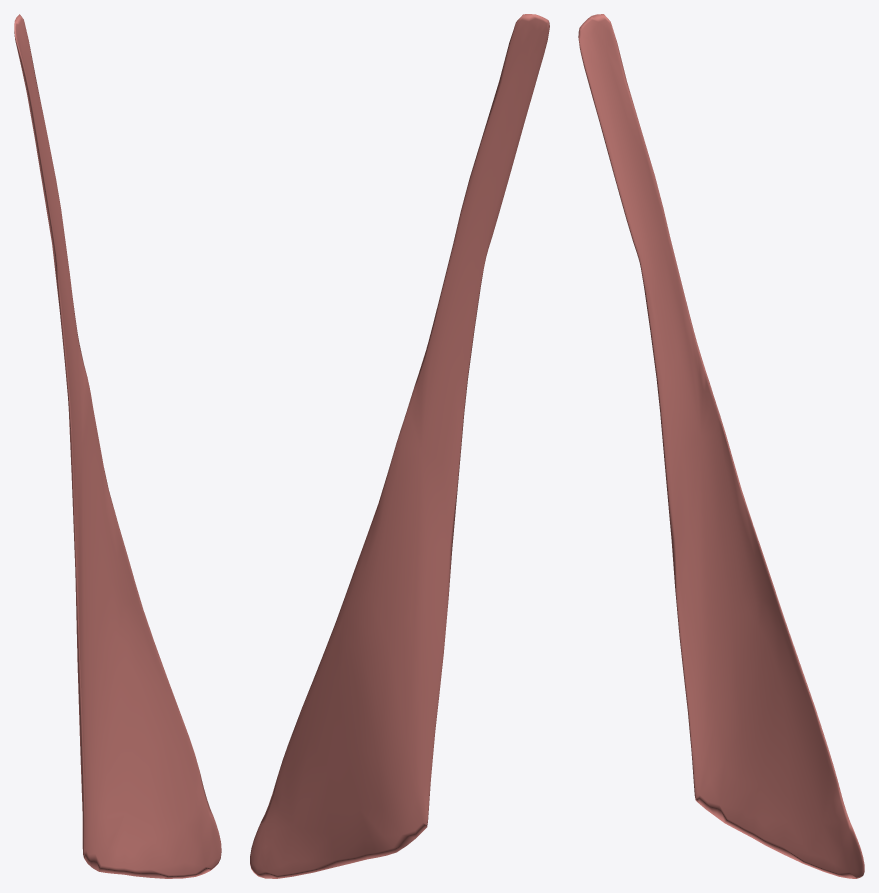
3 views of the same model, side by side, from view 1: azimuth 30°, elevation 25°; view 2: azimuth 150°, elevation 25°; view 3: azimuth 330°, elevation 25° (orthographic). The views are drawn at different scales.
Visible parts, largest first — view 1: ZA_e14af370c7afd4f6; view 2: ZA_e14af370c7afd4f6; view 3: ZA_e14af370c7afd4f6.
Boxes of the visible parts, bbox=[...] form: ZA_e14af370c7afd4f6: bbox=[14, 14, 221, 878]; ZA_e14af370c7afd4f6: bbox=[250, 14, 549, 878]; ZA_e14af370c7afd4f6: bbox=[578, 14, 864, 878].
Bounding box in the file's own units: 0.0559 × 0.1924 × 0.0226.
